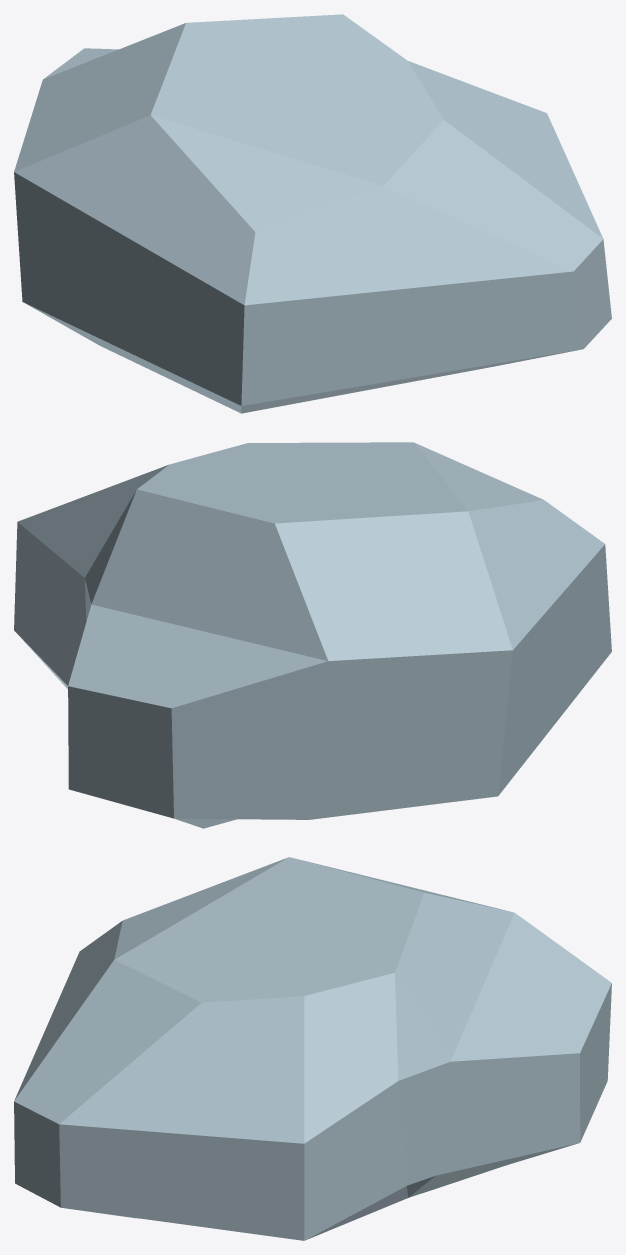
File: rocher_1.fbx
The picture shows the model from 3 angles, top to bottom: view 1: azimuth 30°, elevation 25°; view 2: azimuth 150°, elevation 25°; view 3: azimuth 270°, elevation 25°; orthographic projection. The views are drawn at different scales.
Visible parts, largest first — view 1: rocher_1; view 2: rocher_1; view 3: rocher_1.
Boxes of the visible parts, bbox=[...] form: rocher_1: bbox=[14, 14, 611, 413]; rocher_1: bbox=[14, 442, 611, 828]; rocher_1: bbox=[14, 857, 611, 1240].
Bounding box in the file's own units: 1.82 × 0.8577 × 1.98.
